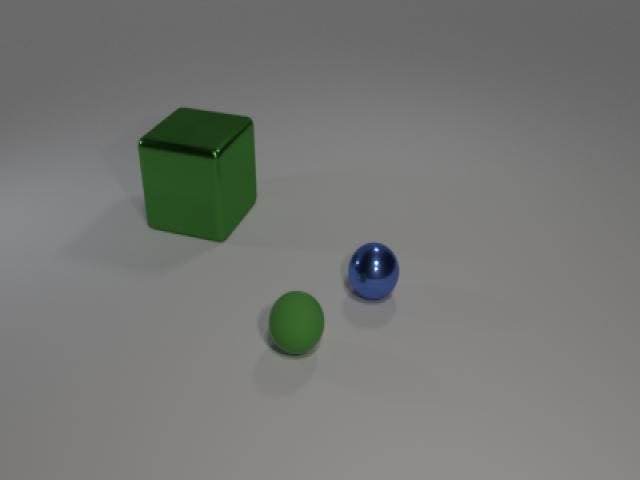round ball: (261, 285, 329, 360), (343, 236, 405, 310)
